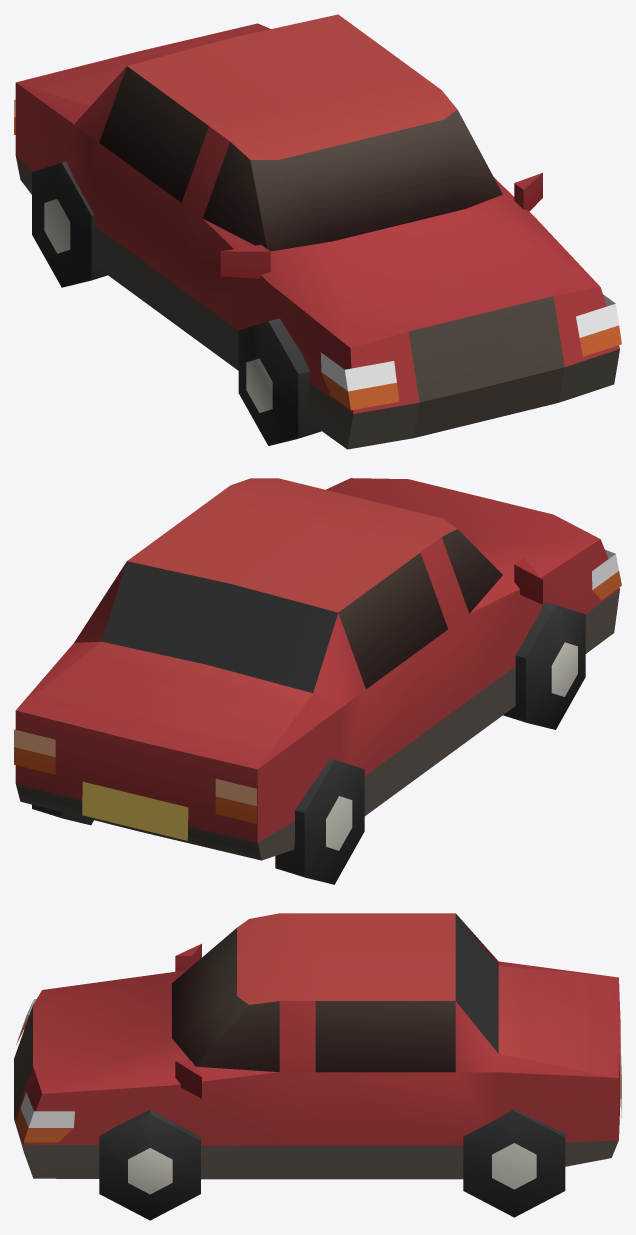
File: Traffic_Car_04.fbx
3 views of the same model, one above another, from view 1: azimuth 30°, elevation 25°; view 2: azimuth 150°, elevation 25°; view 3: azimuth 270°, elevation 25° (orthographic). The views are drawn at different scales.
Parts seen in each view (by area): view 1: Traffic_Car_04; view 2: Traffic_Car_04; view 3: Traffic_Car_04.
Part boxes in pixels (box(x1,y1,x2,y2)): Traffic_Car_04: box(14, 14, 621, 449); Traffic_Car_04: box(14, 478, 621, 884); Traffic_Car_04: box(14, 913, 621, 1220).
Bounding box in the file's own units: 0.7297 × 0.5239 × 1.4.
